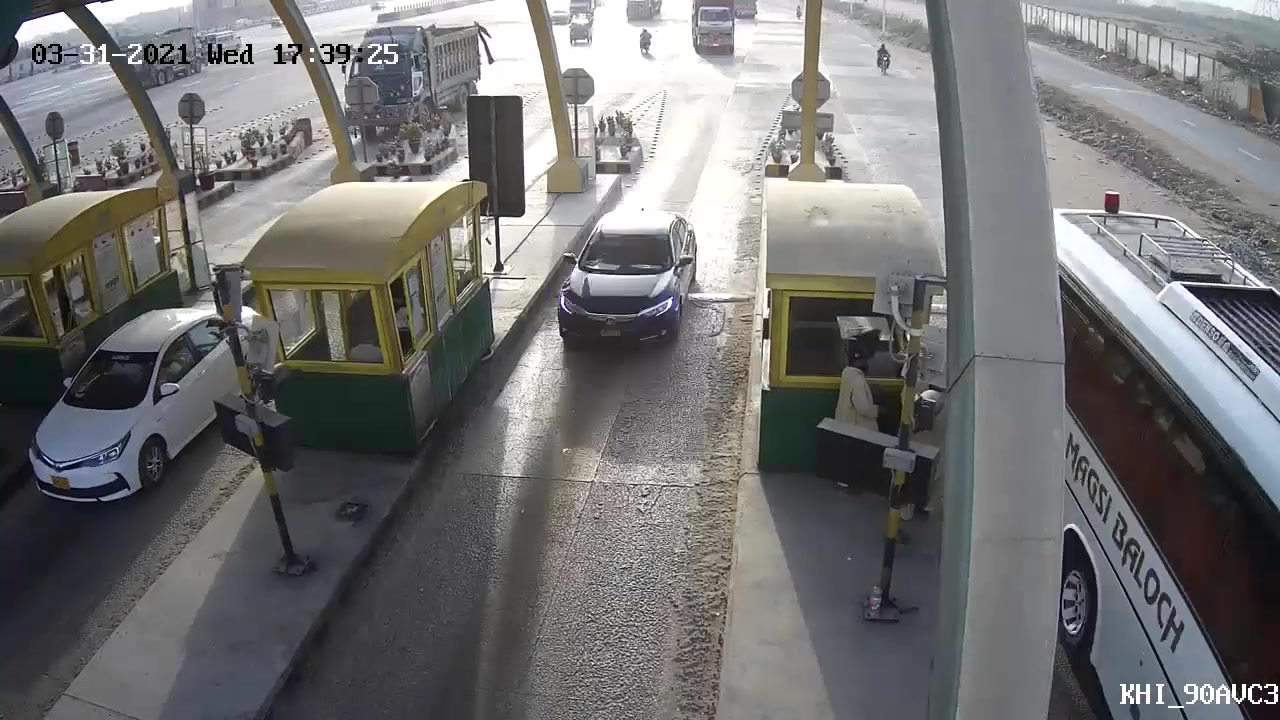F1: (543, 204, 704, 366)
